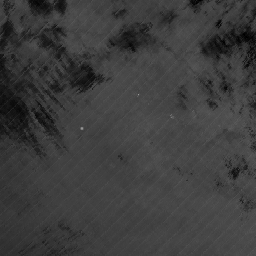Target: (79, 126, 83, 130)
